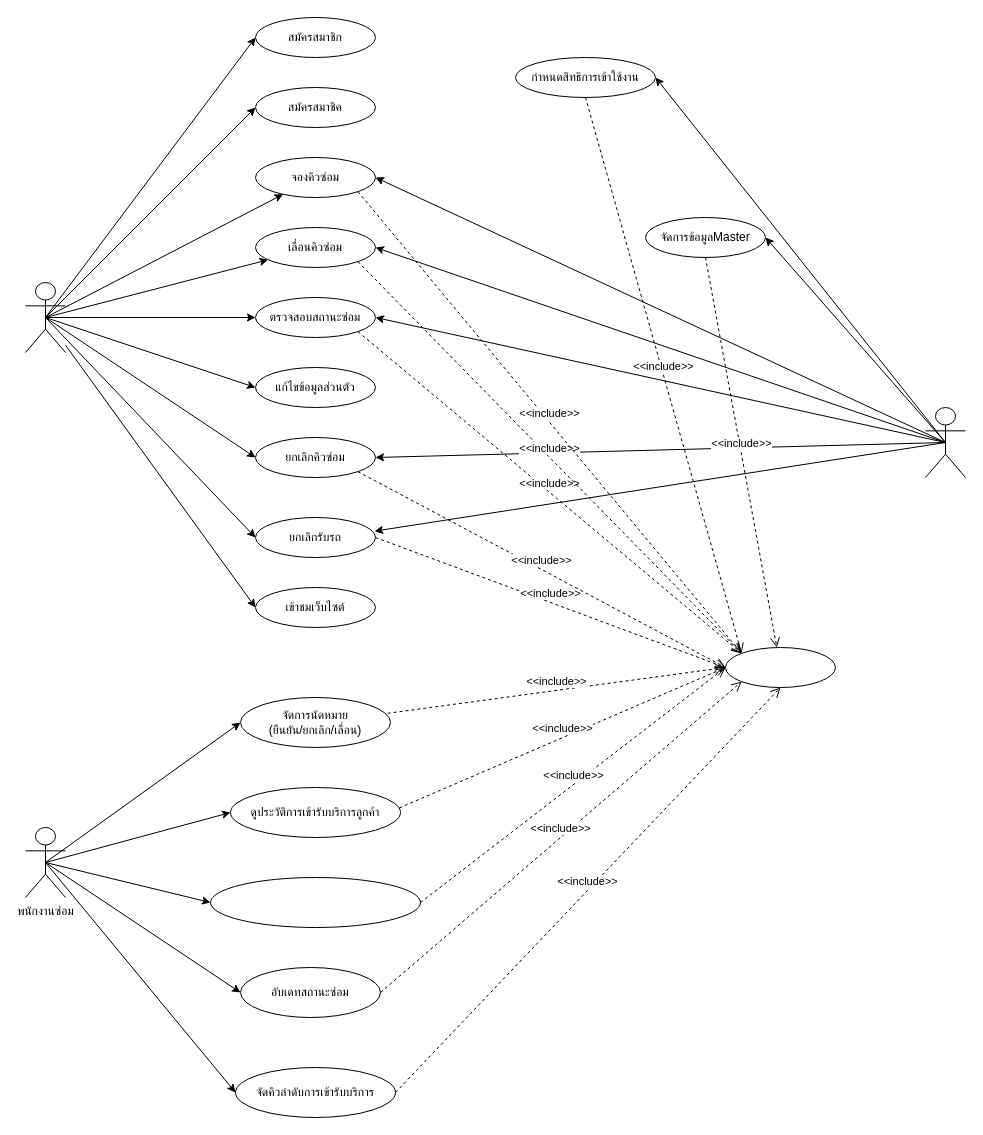
Some shapes in this 983 by 1135 pixel diagram are drawn without their labels. The shapes that lost their labels are listed below. From the top down, each one's centre as x and y in pixels, then its label:
At [45,317]: "ลูกค้า".
At [945,442]: "Admin".
At [780,667]: "Login".
At [315,902]: "ตรวจสอบสถานะซ่อมและรายการซ่อม".
